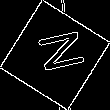N_W: (26, 30, 84, 80)
